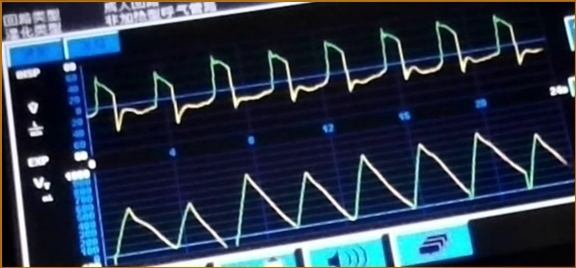Premature_cycling Flow: (89, 17, 541, 127)
Premature_cycling Volume: (109, 133, 569, 268)
